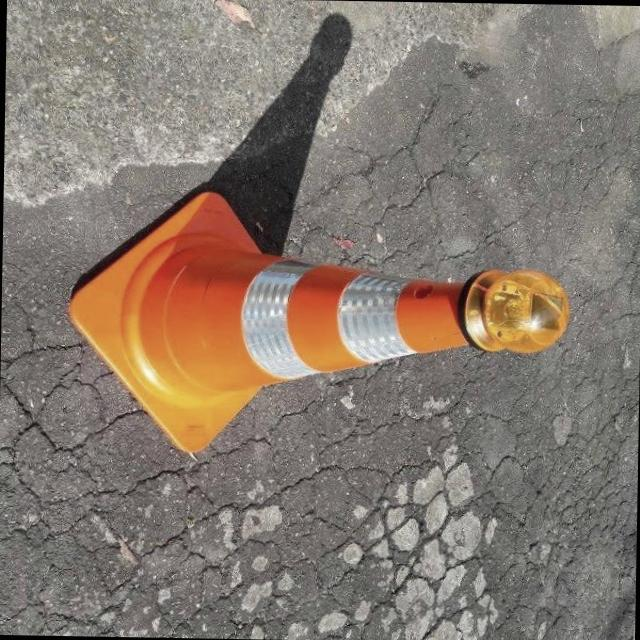cone: (47, 86, 598, 487)
